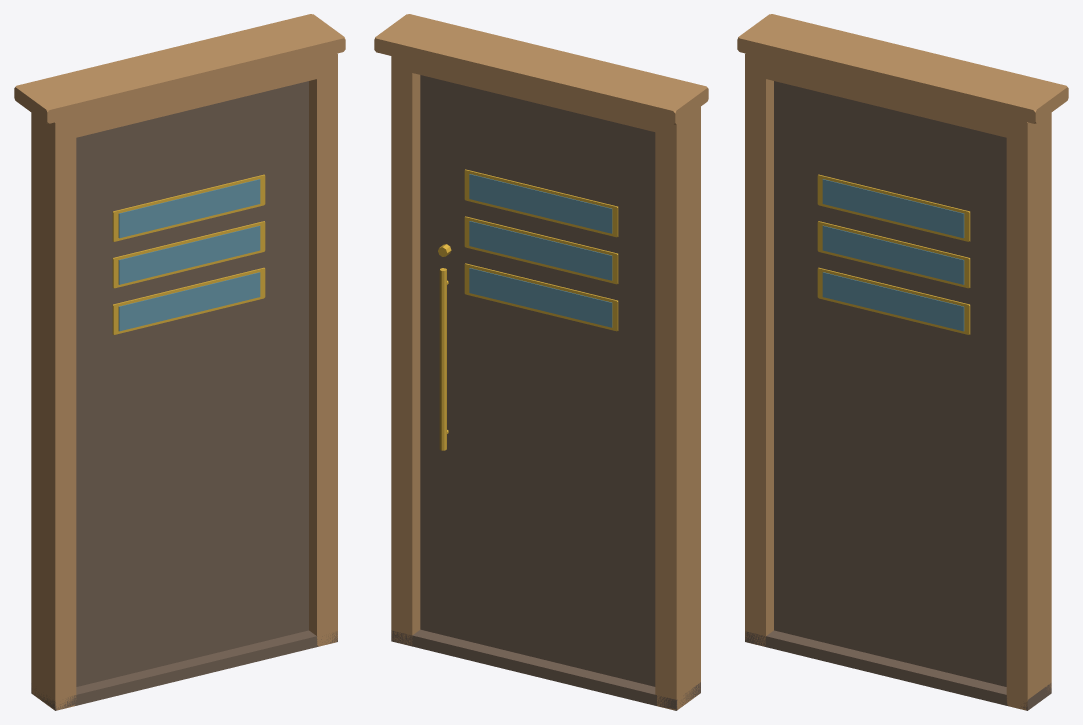
File: Furniture_FrontDoor.glb
3 renders of one model, left to right at view 1: azimuth 30°, elevation 25°; view 2: azimuth 150°, elevation 25°; view 3: azimuth 330°, elevation 25°, orthographic.
Visible parts, largest first — view 1: Furniture_FrontDoor; view 2: Furniture_FrontDoor; view 3: Furniture_FrontDoor.
Boxes of the visible parts, <box> form: Furniture_FrontDoor: <box>14,14,345,710</box>; Furniture_FrontDoor: <box>374,14,708,710</box>; Furniture_FrontDoor: <box>737,14,1068,710</box>.
Bounding box in the file's own units: 1.14 × 2.2 × 0.22.
